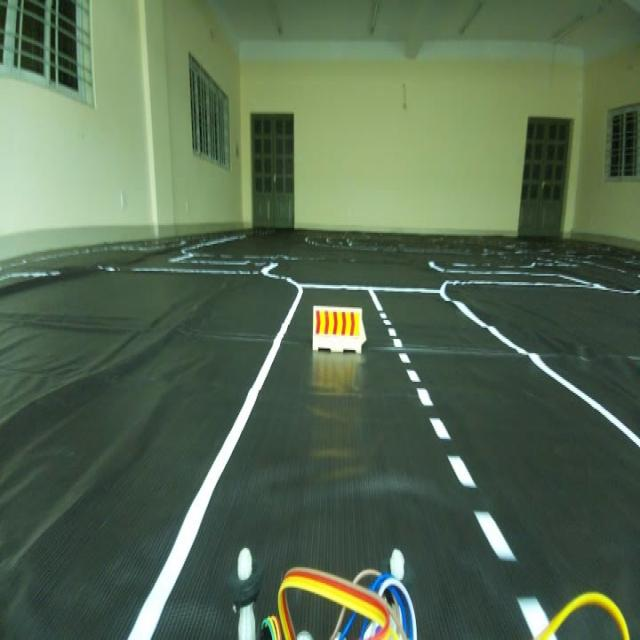roadblock: (307, 293, 373, 376)
